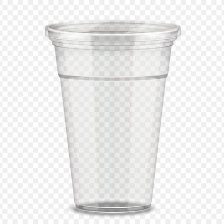glass: (35, 12, 190, 219)
